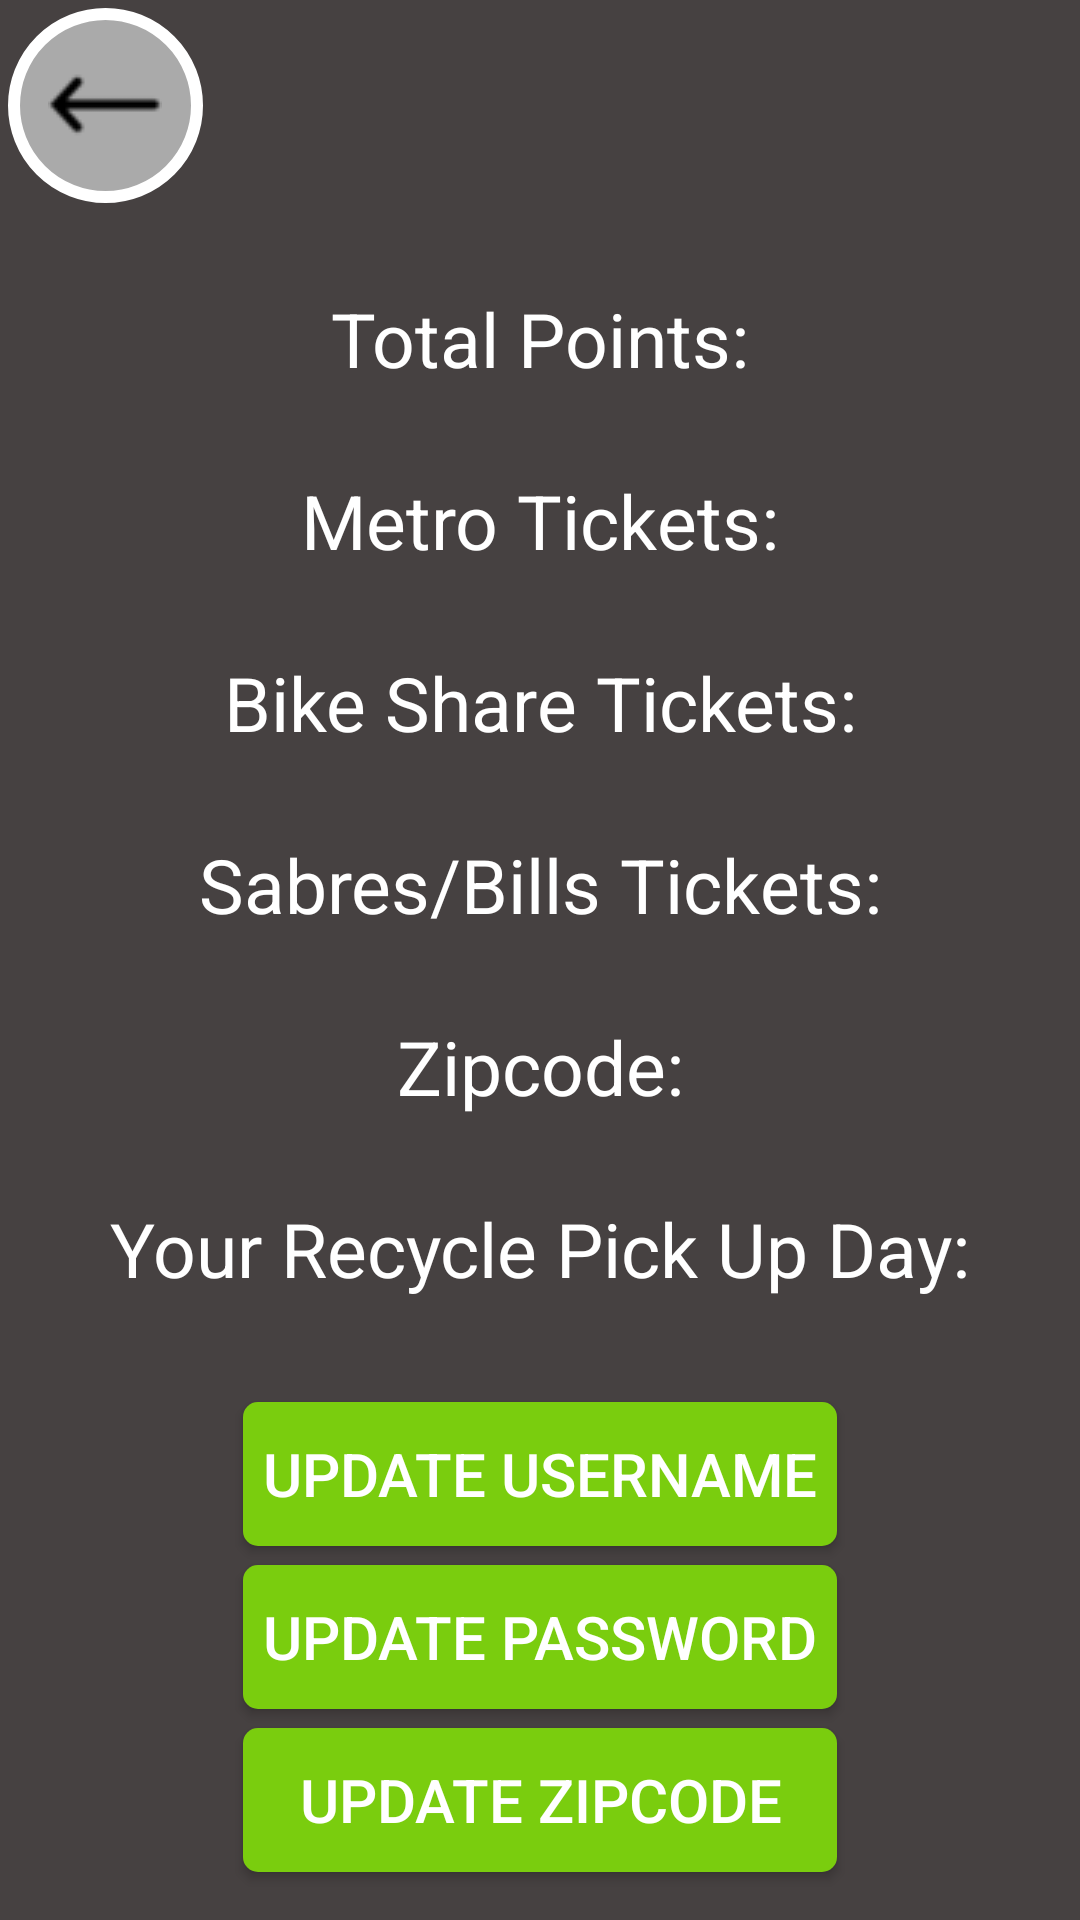

Named icons in this screenshot (1080px x 1920px) and their centers, (x,y):
back arrow: (105,105)
